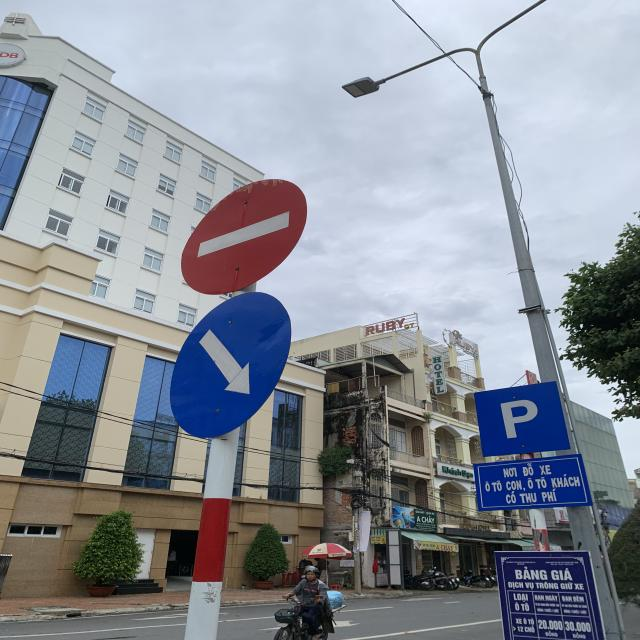Cam_Di_Nguoc_Chieu: (180, 178, 308, 294)
Chi_Huong_Di_Phai: (170, 297, 294, 433)
